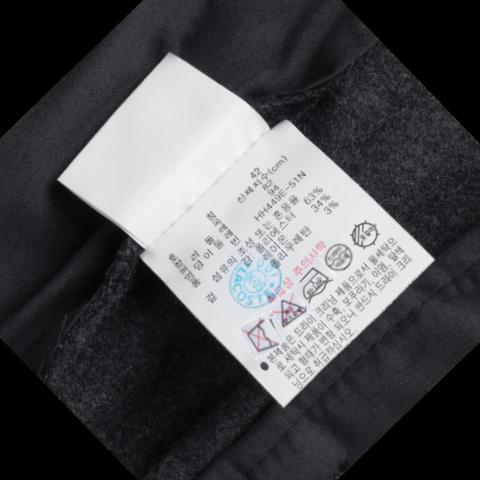DN_bleach: (276, 298, 308, 328)
DN_wash: (247, 321, 277, 355)
dry_clean_petrol_only: (325, 240, 358, 275)
iron_low: (301, 267, 333, 302)
line_dry_in_shade: (349, 217, 384, 247)
